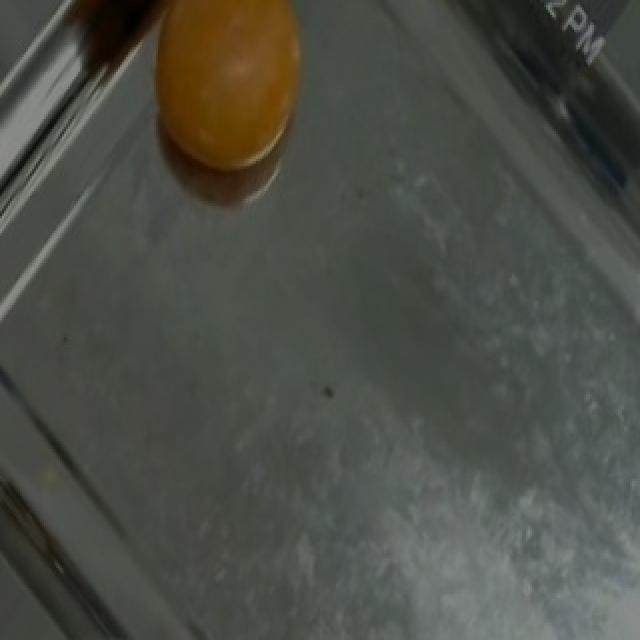Fruit: (120, 0, 334, 196)
